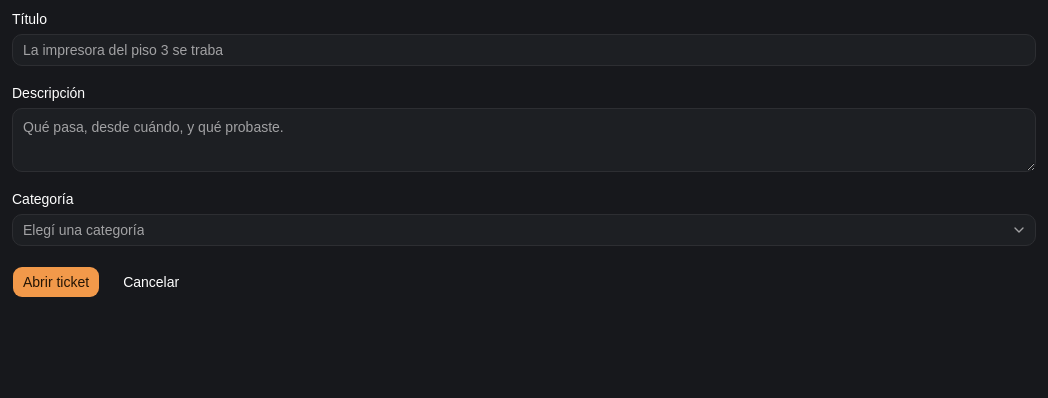
Test: TicketForm › blocks an empty submission and says which fields are missing
Click the button "Abrir ticket" at (56, 282), box [12,266,100,298]
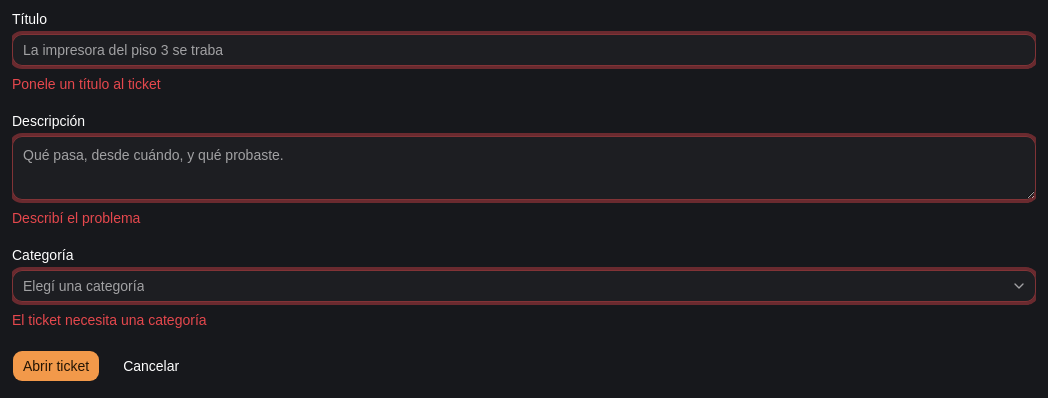
Now the text "Ponele un título al ticket" is shown, box [12,76,161,92]
Now the text "Describí el problema" is shown, box [12,210,140,226]
Now the text "El ticket necesita una categoría" is shown, box [12,312,207,328]
